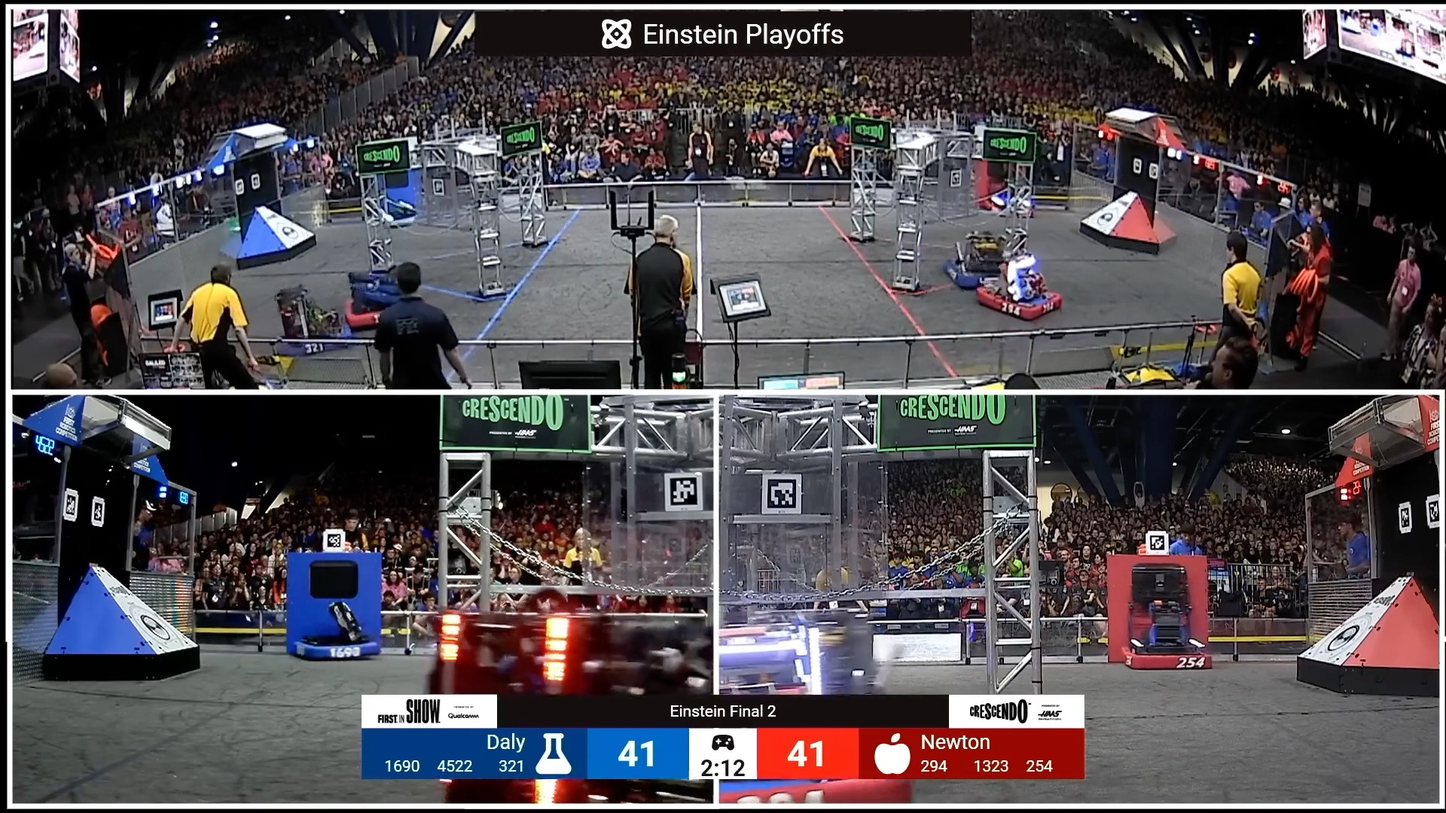bumpers: (1109, 626, 1214, 675), (934, 249, 1046, 293), (275, 627, 388, 667), (971, 282, 1072, 325), (269, 322, 359, 356), (341, 294, 433, 327), (985, 202, 1039, 221)
